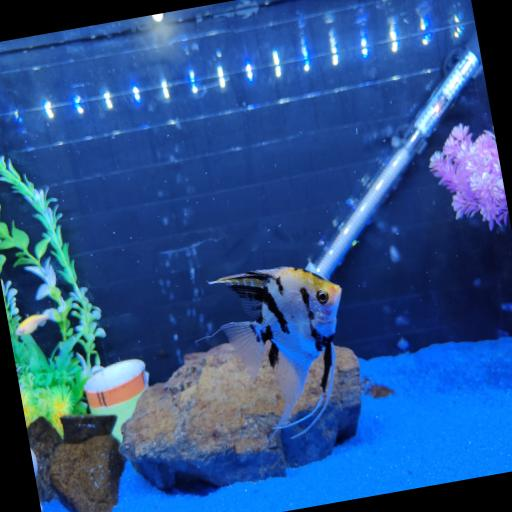Fish: (209, 267, 341, 435), (16, 311, 50, 335)
